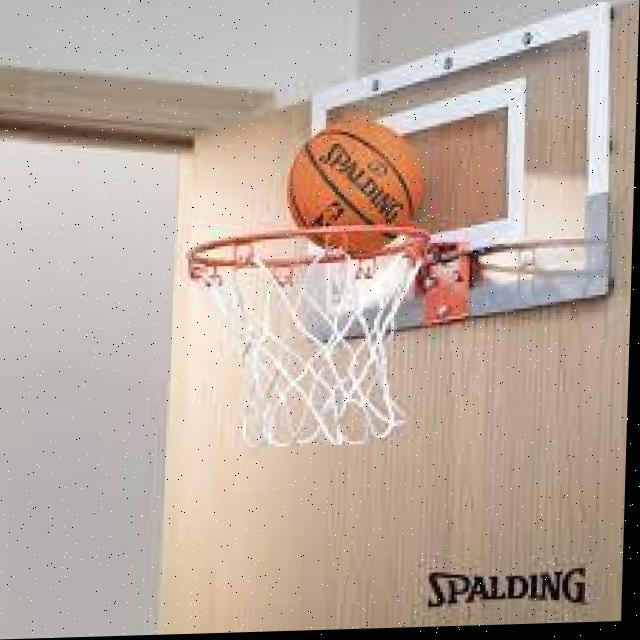rebound_hit: (283, 120, 431, 262)
